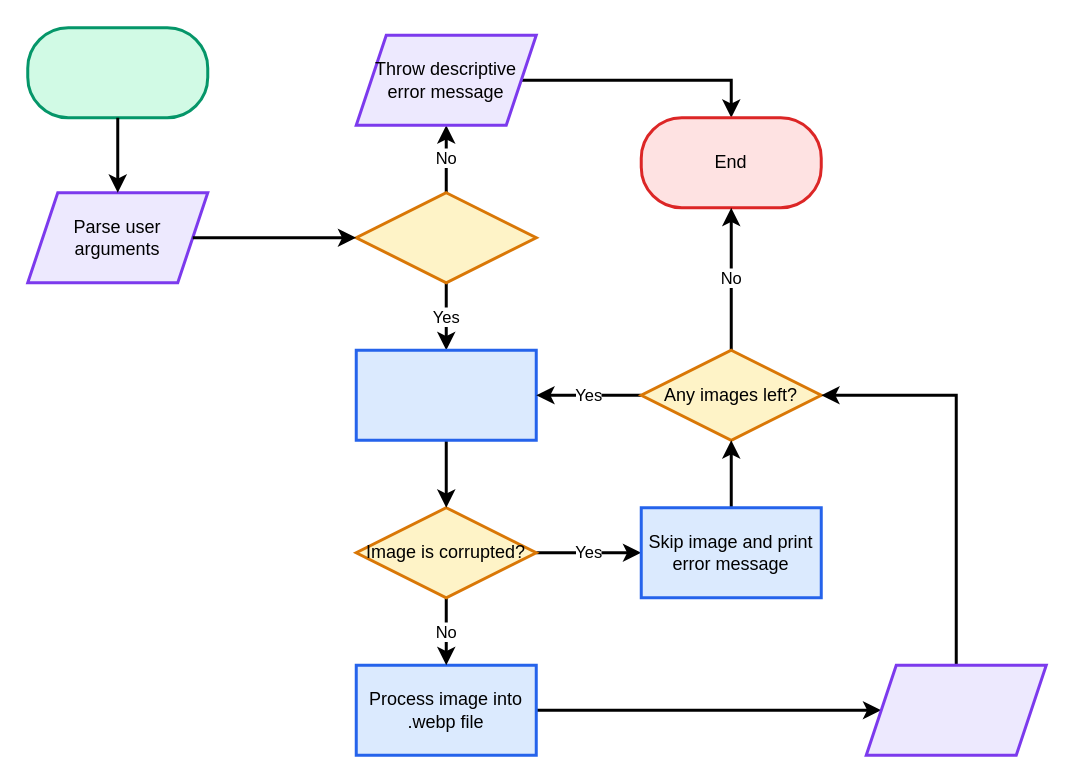
Image size: 1073x782. Some labels were removed from this diagram. Each missing label, with the box of its shape:
Are arguments valid?: (354, 190, 537, 284)
Command is called: (26, 26, 208, 118)
Export .webp file to specified directory: (864, 663, 1047, 756)
Load an image (using Pillow): (354, 348, 537, 441)
